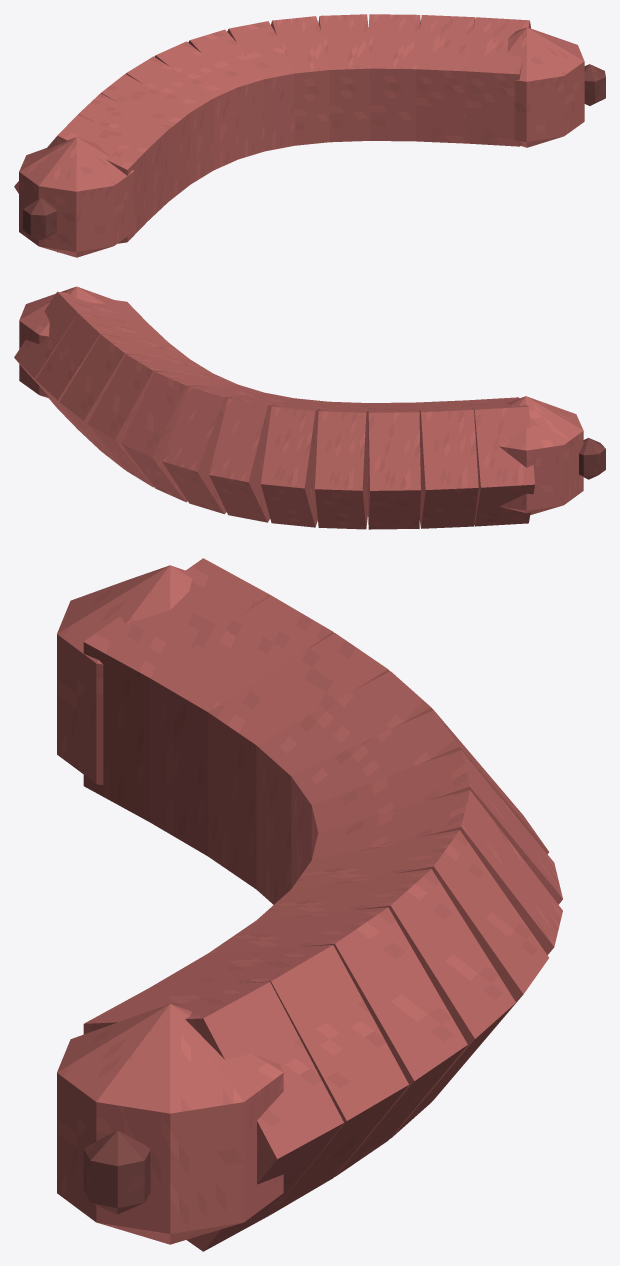
Rendered from sausage_raw.glb.
3 views of the same model, one above another, from view 1: azimuth 30°, elevation 25°; view 2: azimuth 150°, elevation 25°; view 3: azimuth 270°, elevation 25° (orthographic). The views are drawn at different scales.
Visible parts, largest first — view 1: block_rounded end (×2), block_curved casing 10, block_curved casing 11, block_curved casing 9, block_curved casing 8, block_curved casing 7, block_curved casing 6, block_curved casing 5, block_curved casing 4, block_curved casing 3, block_curved casing 2, block_curved casing 1 (+2 smaller); view 2: block_rounded end (×2), block_curved casing 1, block_curved casing 2, block_curved casing 3, block_curved casing 4, block_curved casing 5, block_curved casing 0, block_curved casing 6, block_curved casing 7, block_curved casing 8, block_curved casing 9, block_curved casing 10 (+2 smaller); view 3: block_rounded end (×2), block_curved casing 10, block_curved casing 1, block_curved casing 9, block_curved casing 11, block_curved casing 0, block_curved casing 2, block_curved casing 8, block_curved casing 3, block_curved casing 7, block_curved casing 6, block_curved casing 4 (+2 smaller).
Part boxes in pixels (x1,y1,x2,y2): block_rounded end (×2): (19, 27, 584, 257); block_curved casing 10: (416, 15, 474, 143); block_curved casing 11: (466, 17, 530, 146); block_curved casing 9: (368, 14, 420, 141); block_curved casing 8: (318, 14, 369, 142); block_curved casing 7: (271, 16, 329, 145); block_curved casing 6: (227, 21, 294, 151); block_curved casing 5: (188, 29, 264, 159); block_curved casing 4: (154, 41, 238, 170); block_curved casing 3: (126, 56, 213, 184); block_curved casing 2: (100, 74, 190, 201); block_curved casing 1: (78, 93, 168, 220); block_rounded end (×2): (19, 286, 583, 514); block_curved casing 1: (415, 400, 478, 528); block_curved casing 2: (368, 402, 420, 529); block_curved casing 3: (315, 401, 369, 529); block_curved casing 4: (261, 398, 328, 527); block_curved casing 5: (209, 392, 293, 522); block_curved casing 0: (466, 397, 534, 526); block_curved casing 6: (162, 384, 263, 514); block_curved casing 7: (121, 372, 236, 502); block_curved casing 8: (87, 354, 212, 487); block_curved casing 9: (60, 334, 189, 469); block_curved casing 10: (36, 313, 167, 449); block_rounded end (×2): (57, 565, 283, 1244); block_curved casing 10: (149, 945, 408, 1214); block_curved casing 1: (149, 595, 333, 856); block_curved casing 9: (208, 907, 467, 1176); block_curved casing 11: (83, 982, 343, 1251); block_curved casing 0: (83, 558, 270, 821); block_curved casing 2: (208, 633, 389, 888); block_curved casing 8: (257, 869, 515, 1138); block_curved casing 3: (256, 671, 433, 904); block_curved casing 7: (291, 830, 548, 1099); block_curved casing 6: (312, 790, 562, 955); block_curved casing 4: (291, 710, 548, 888).
Size of the model in its own units: 0.1512 by 0.0302 by 0.0574.
Materials: 1 (1 with a texture image).
